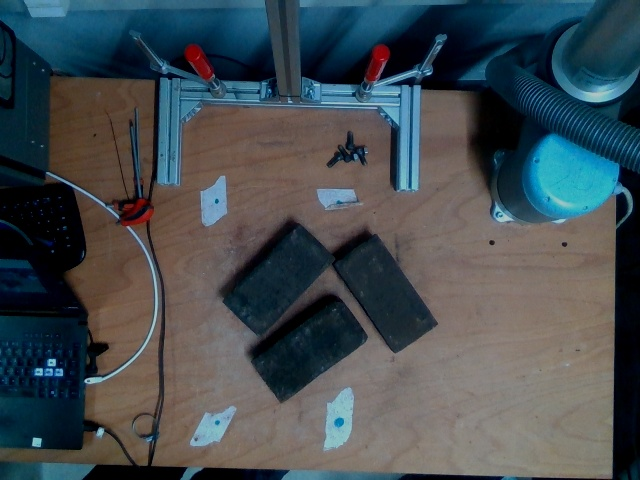brick: (222, 224, 336, 337), (333, 237, 438, 355), (250, 300, 369, 404)
